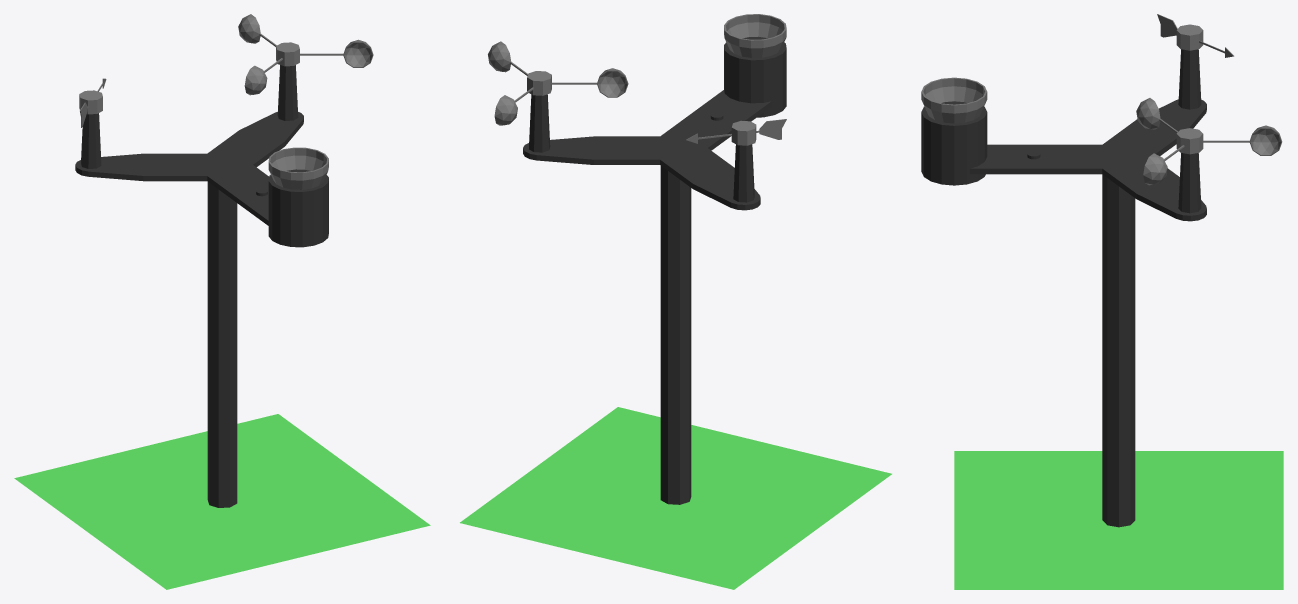
3 renders of one model, left to right at view 1: azimuth 30°, elevation 25°; view 2: azimuth 150°, elevation 25°; view 3: azimuth 270°, elevation 25°, orthographic. The views are drawn at different scales.
Visible parts, largest first — view 1: Plane, Base, WindSpeed, RainCollection, WindDirection; view 2: Plane, Base, WindSpeed, RainCollection, WindDirection; view 3: Plane, Base, WindSpeed, RainCollection, WindDirection.
Part boxes in pixels (x1=…): Plane: x1=14, y1=414, x2=430, y2=589; Base: x1=75, y1=65, x2=328, y2=507; WindSpeed: x1=238, y1=14, x2=373, y2=95; RainCollection: x1=268, y1=147, x2=328, y2=189; WindDirection: x1=79, y1=78, x2=106, y2=127; Plane: x1=460, y1=407, x2=891, y2=589; Base: x1=523, y1=36, x2=786, y2=504; WindSpeed: x1=488, y1=41, x2=628, y2=125; RainCollection: x1=724, y1=14, x2=786, y2=57; WindDirection: x1=686, y1=119, x2=786, y2=145; Plane: x1=954, y1=451, x2=1283, y2=589; Base: x1=921, y1=49, x2=1206, y2=527; WindSpeed: x1=1136, y1=98, x2=1282, y2=185; RainCollection: x1=921, y1=77, x2=987, y2=123; WindDirection: x1=1157, y1=14, x2=1234, y2=57.
Bounding box in the file's own units: 11.19 × 14.9 × 11.
